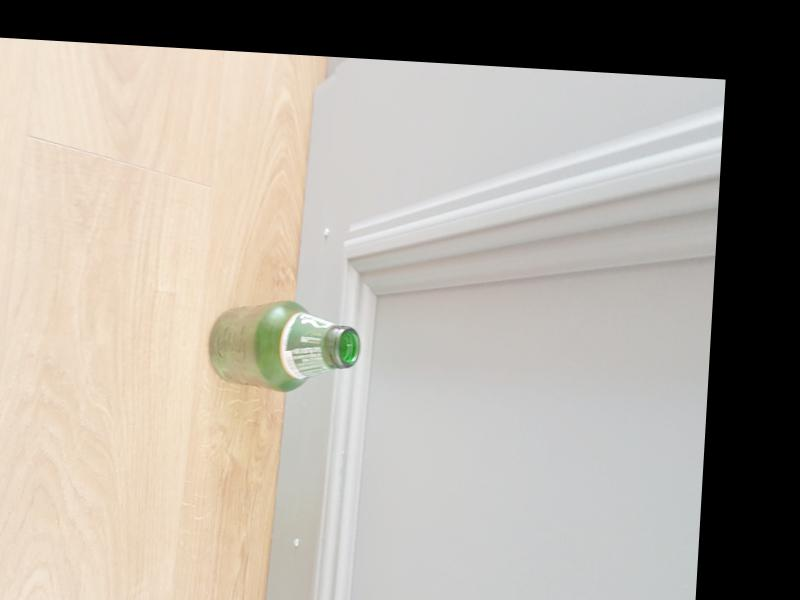Beer: (205, 296, 362, 396)
